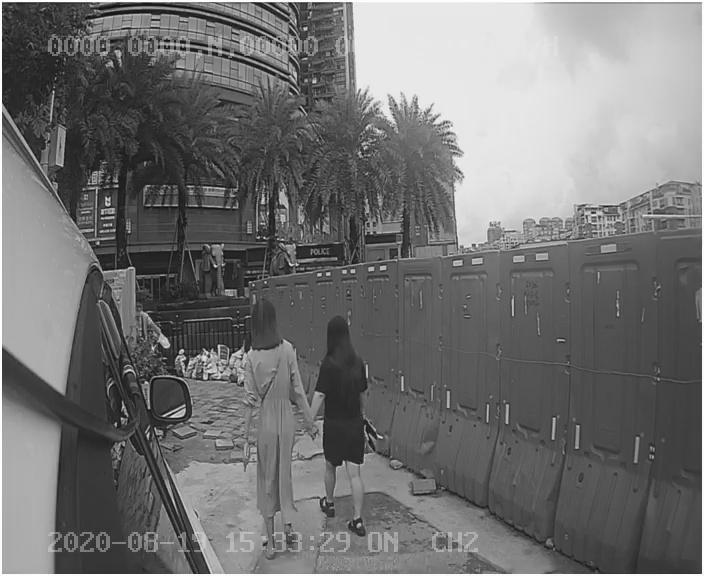person: (223, 300, 325, 555), (302, 312, 390, 533)
